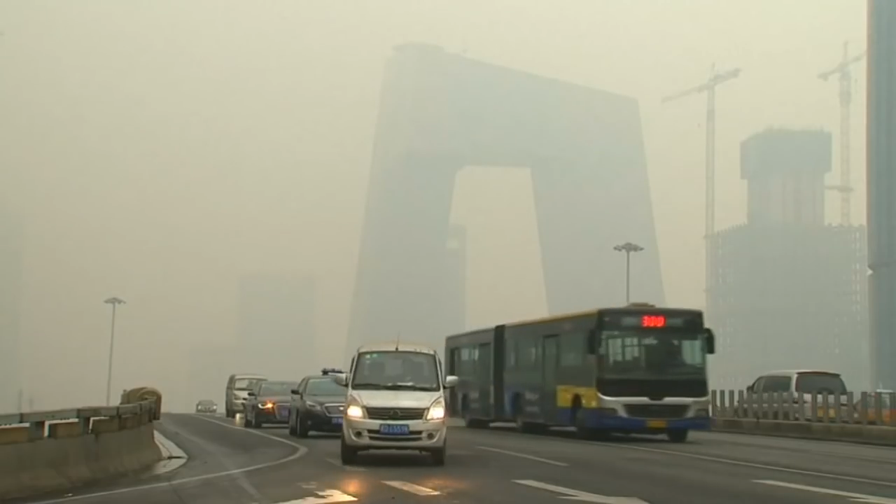bus: (441, 300, 718, 444)
car: (333, 332, 462, 466), (729, 367, 854, 434), (287, 372, 377, 440), (244, 378, 307, 427), (844, 385, 896, 434), (222, 373, 271, 420), (195, 399, 217, 414)
